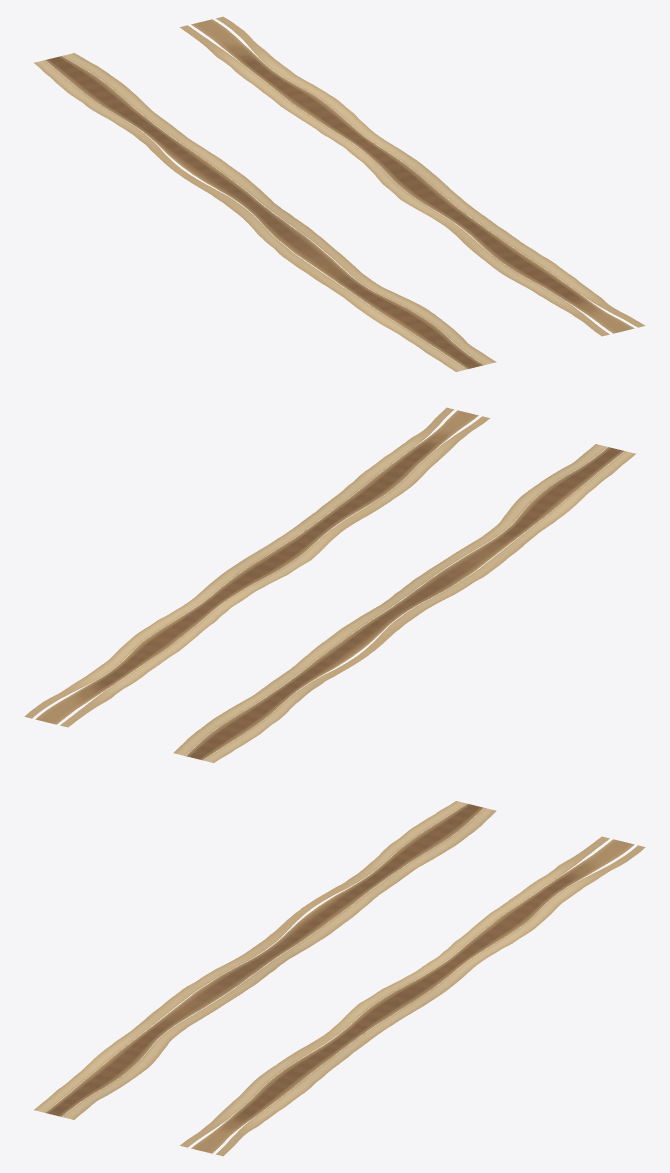
File: SM_Decal_DesertCartRuts.glb
3 views of the same model, one above another, from view 1: azimuth 30°, elevation 25°; view 2: azimuth 150°, elevation 25°; view 3: azimuth 330°, elevation 25° (orthographic).
Visible parts, largest first — view 1: SM_Decal_DesertCartRuts_LOD0; view 2: SM_Decal_DesertCartRuts_LOD0; view 3: SM_Decal_DesertCartRuts_LOD0.
Boxes of the visible parts, x1,y1,x2,y2 form: SM_Decal_DesertCartRuts_LOD0: (34, 16, 645, 371); SM_Decal_DesertCartRuts_LOD0: (24, 407, 635, 762); SM_Decal_DesertCartRuts_LOD0: (34, 801, 645, 1156).
Size of the model in its own units: 2.4 by 0 by 8.
Materials: 1 (1 with a texture image).
